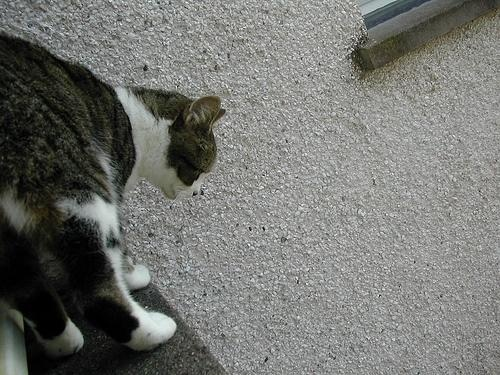cat: (2, 30, 230, 364)
